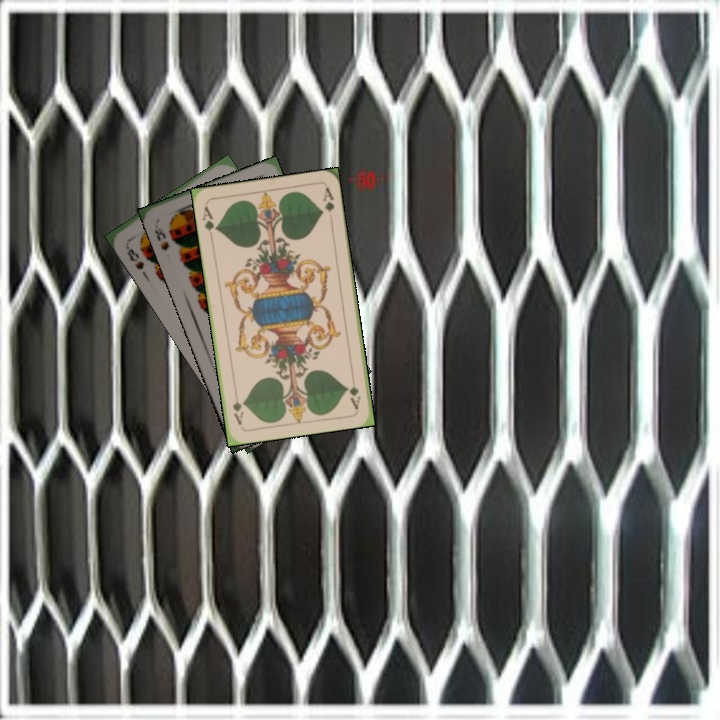GA: (198, 202, 220, 242), (345, 371, 363, 411)
S8: (121, 236, 147, 272), (150, 217, 172, 253)
